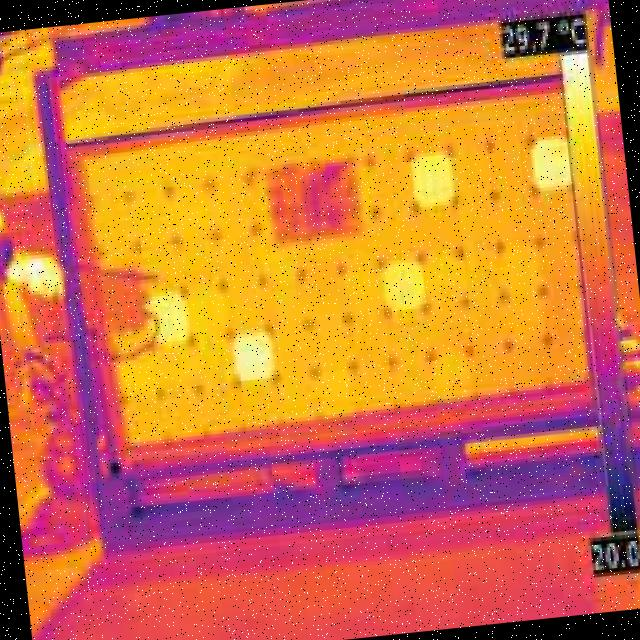Hotspot: (401, 141, 467, 214), (225, 319, 284, 393), (372, 252, 432, 320), (139, 280, 195, 352), (524, 130, 578, 198)
